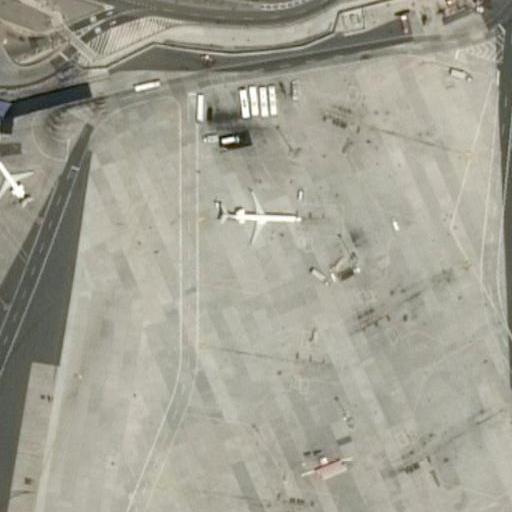Aircraft: (212, 181, 304, 248), (0, 151, 32, 208)
